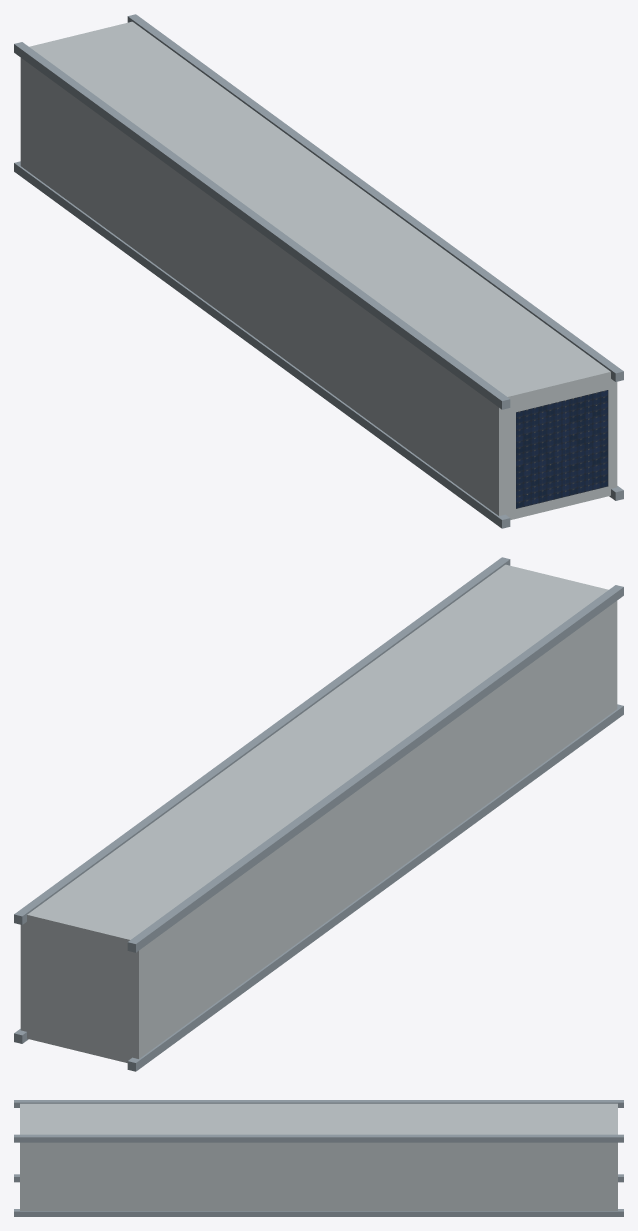
The model's file is ref-cubesat-6uxl-62688.glb.
3 renders of one model, top to bottom at view 1: azimuth 30°, elevation 25°; view 2: azimuth 150°, elevation 25°; view 3: azimuth 270°, elevation 25°, orthographic. The views are drawn at different scales.
Parts seen in each view (by area): view 1: Spacecraft body, Dispenser rail (×3), Body-mounted cells; view 2: Spacecraft body, Dispenser rail (×3); view 3: Spacecraft body, Dispenser rail (×3).
Boxes of the visible parts, bbox=[...] form: Spacecraft body: bbox=[20, 21, 617, 519]; Dispenser rail (×3): bbox=[14, 14, 623, 528]; Body-mounted cells: bbox=[516, 390, 608, 508]; Spacecraft body: bbox=[20, 564, 617, 1062]; Dispenser rail (×3): bbox=[14, 557, 623, 1071]; Spacecraft body: bbox=[20, 1103, 617, 1210]; Dispenser rail (×3): bbox=[14, 1100, 623, 1216].
Bounding box in the file's own units: 0.103 × 0.103 × 0.714.
3 materials, 1 textured.
